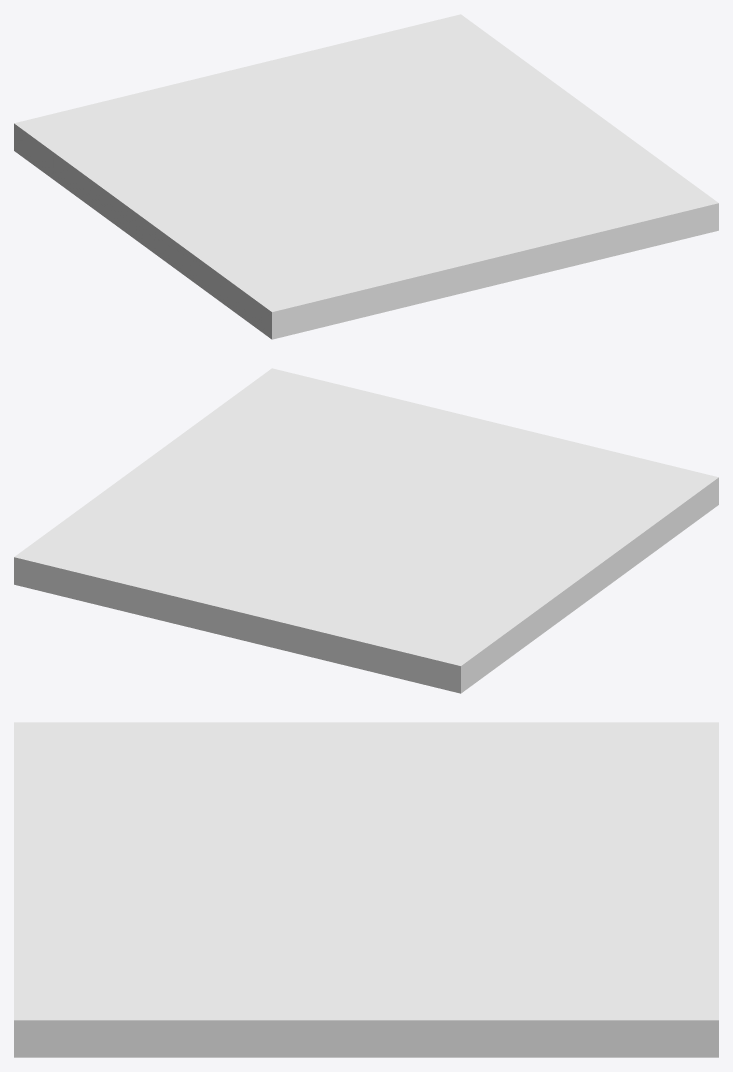
The model's file is RoomCeilingV1.fbx.
The picture shows the model from 3 angles, top to bottom: view 1: azimuth 30°, elevation 25°; view 2: azimuth 150°, elevation 25°; view 3: azimuth 270°, elevation 25°; orthographic projection. The views are drawn at different scales.
Visible parts, largest first — view 1: Ceiling; view 2: Ceiling; view 3: Ceiling.
Part boxes in pixels (x1,y1,x2,y2): Ceiling: (14,14,718,339); Ceiling: (14,368,718,693); Ceiling: (14,722,718,1057).
Size of the model in its own units: 340 by 30 by 340.
Materials: 4 (2 with a texture image).
